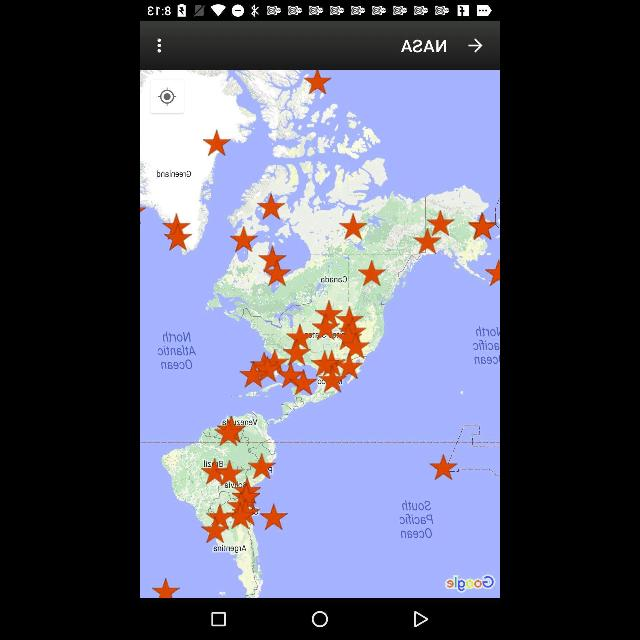icon: (412, 612, 428, 628), (312, 612, 328, 626), (212, 613, 226, 625), (470, 39, 482, 51), (157, 37, 161, 53)
map: (140, 69, 500, 599)
panel: (140, 598, 500, 640)
text: (402, 40, 446, 52)
toolbar: (141, 22, 499, 68)
uppertaskbar: (140, 1, 500, 22)
